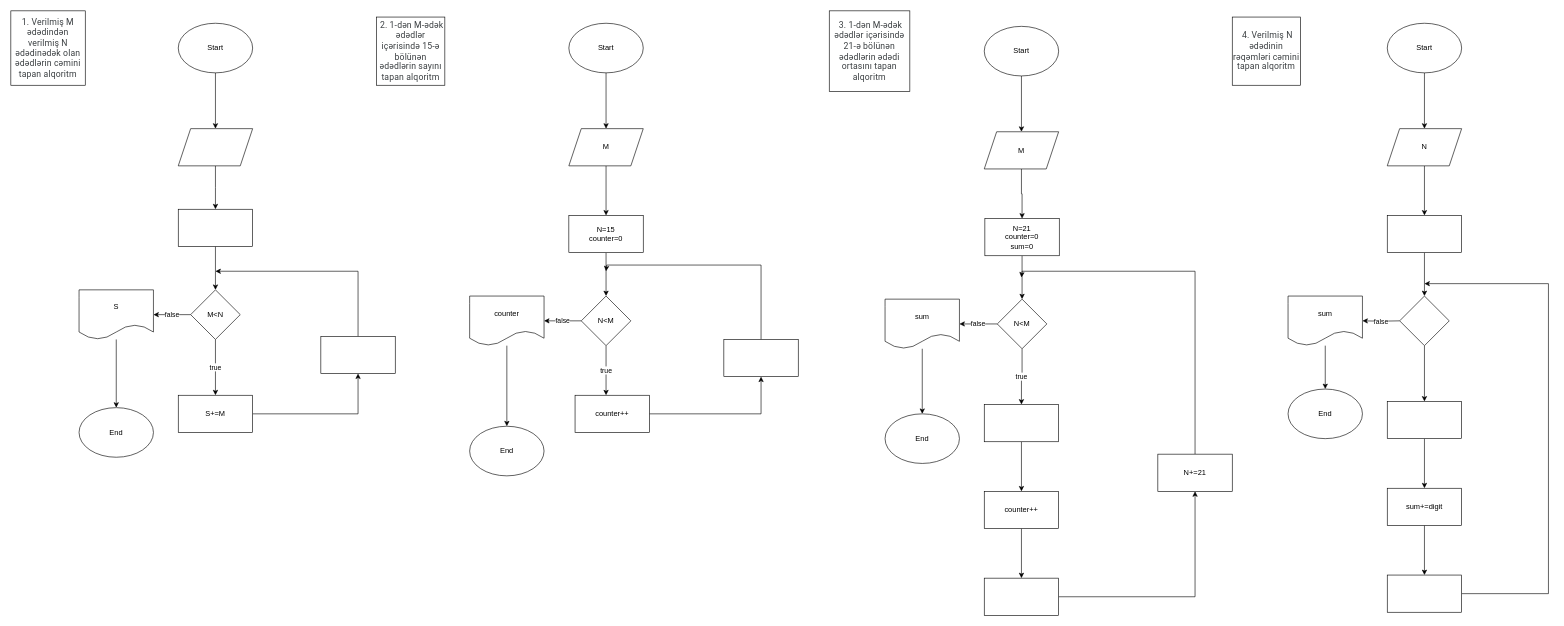
Some shapes in this 1564 by 626 pixel diagram are drawn without their labels. Here are the shapes that lost their labels. From the top down, the centre of each, then its label:
At point (215, 147): "M,N".
At point (215, 227): "S=0".
At point (1424, 234): "sum=0".
At point (1424, 320): "N>0".
At point (357, 355): "M++".
At point (760, 358): "N+=15".
At point (1021, 423): "sum+=N".
At point (1424, 420): "digit=N%10".
At point (1021, 596): "average=sum/counter".
At point (1424, 593): "N=N//10".
